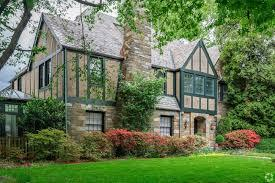casa: (29, 4, 227, 151)
